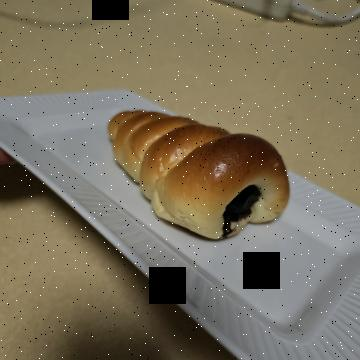cream horn: (91, 72, 259, 276)
